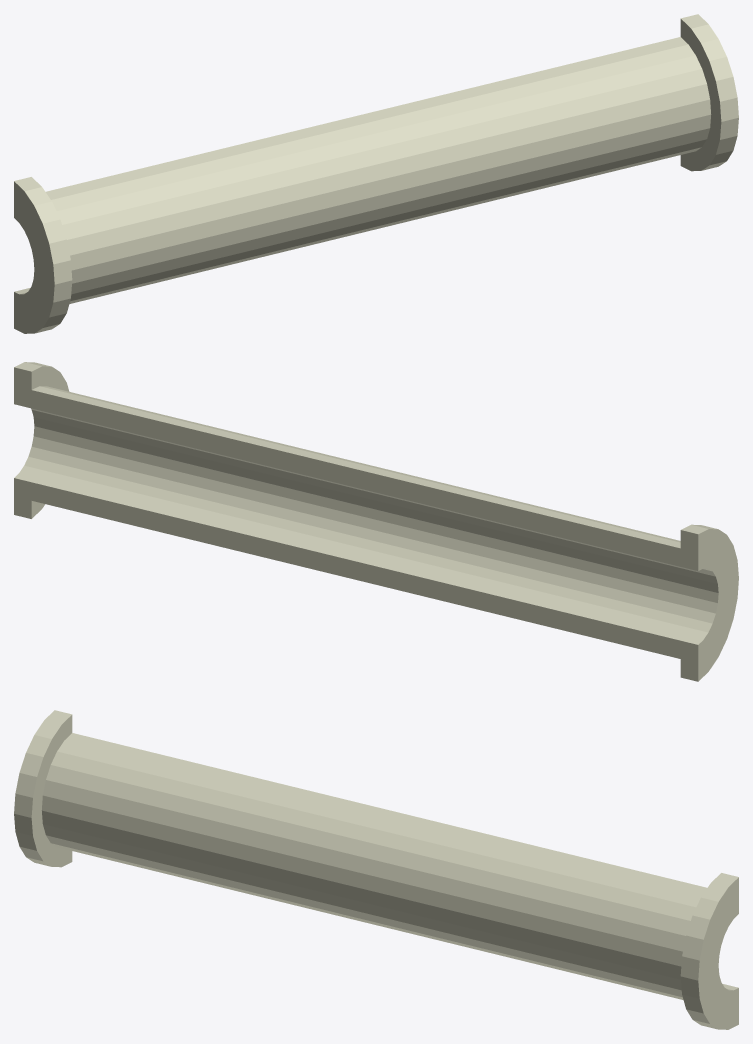
File: section_105.obj
3 renders of one model, top to bottom at view 1: azimuth 30°, elevation 25°; view 2: azimuth 150°, elevation 25°; view 3: azimuth 330°, elevation 25°, orthographic.
Bounding box in the file's own units: 38.82 × 8 × 4.
